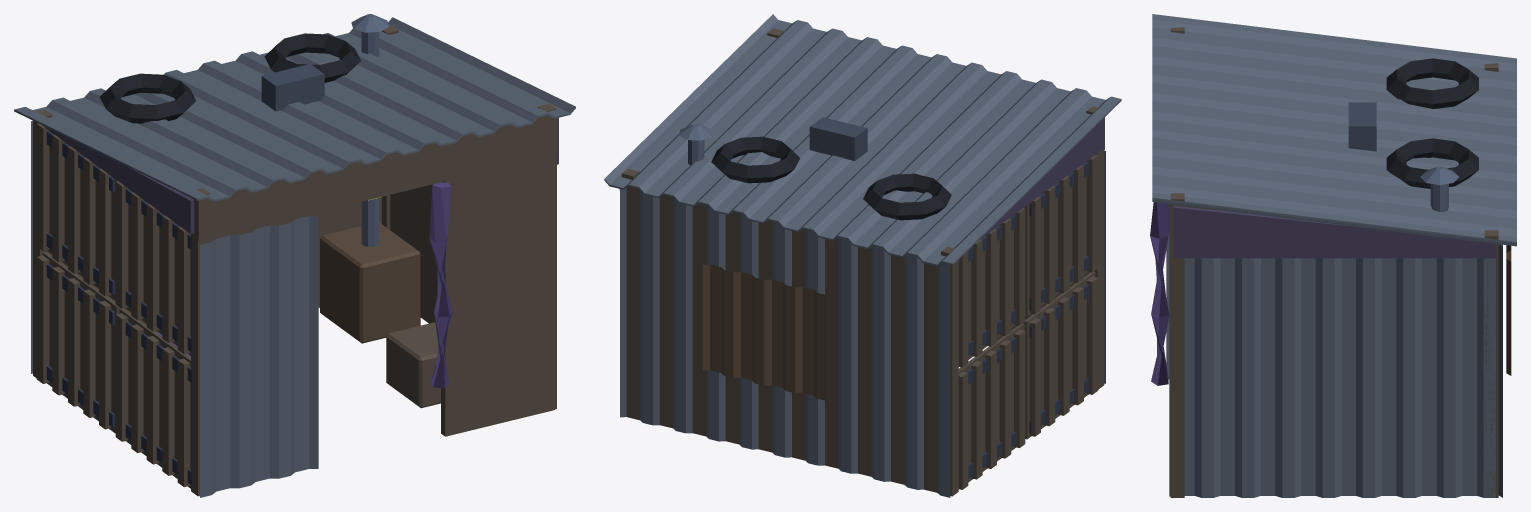
File: hw_camp_shack.glb
The picture shows the model from 3 angles, left to right: view 1: azimuth 30°, elevation 25°; view 2: azimuth 150°, elevation 25°; view 3: azimuth 270°, elevation 25°; orthographic projection. The views are drawn at different scales.
Parts seen in each view (by area): view 1: timber, sheet, rust_patch, tyre, pallet_block, tarp, fabric, cinder_block, stovepipe; view 2: sheet, timber, rust_patch, tyre, pallet_block, tarp, cinder_block, stovepipe; view 3: sheet, tarp, timber, tyre, fabric, cinder_block, stovepipe, rust_patch.
Boxes of the visible parts, x1,y1,x2,y2 form: timber: (33,25,557,496); sheet: (14,17,575,497); rust_patch: (320,222,420,343); tyre: (100,33,360,123); pallet_block: (46,131,191,484); tarp: (42,118,558,233); fabric: (157,182,452,388); cinder_block: (261,64,324,111); stovepipe: (351,14,389,246); sheet: (604,14,1121,497); timber: (621,28,1104,496); rust_patch: (702,264,826,400); tyre: (711,136,951,220); pallet_block: (958,162,1088,485); tarp: (619,118,1104,239); cinder_block: (809,117,867,160); stovepipe: (679,123,713,165); sheet: (1152,14,1516,497); tarp: (1173,205,1495,258); timber: (1169,27,1498,497); tyre: (1386,58,1478,188); fabric: (1150,202,1169,385); cinder_block: (1348,102,1376,151); stovepipe: (1420,166,1458,211); rust_patch: (1506,245,1511,375).
Size of the model in its own units: 3.1 by 2.4 by 2.62.
